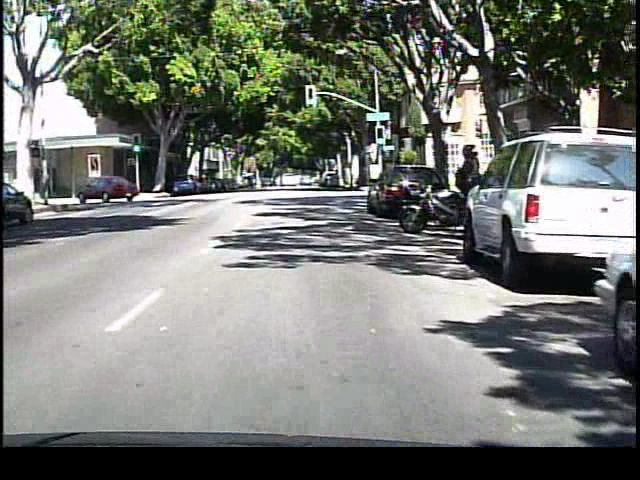person: (445, 137, 484, 246)
